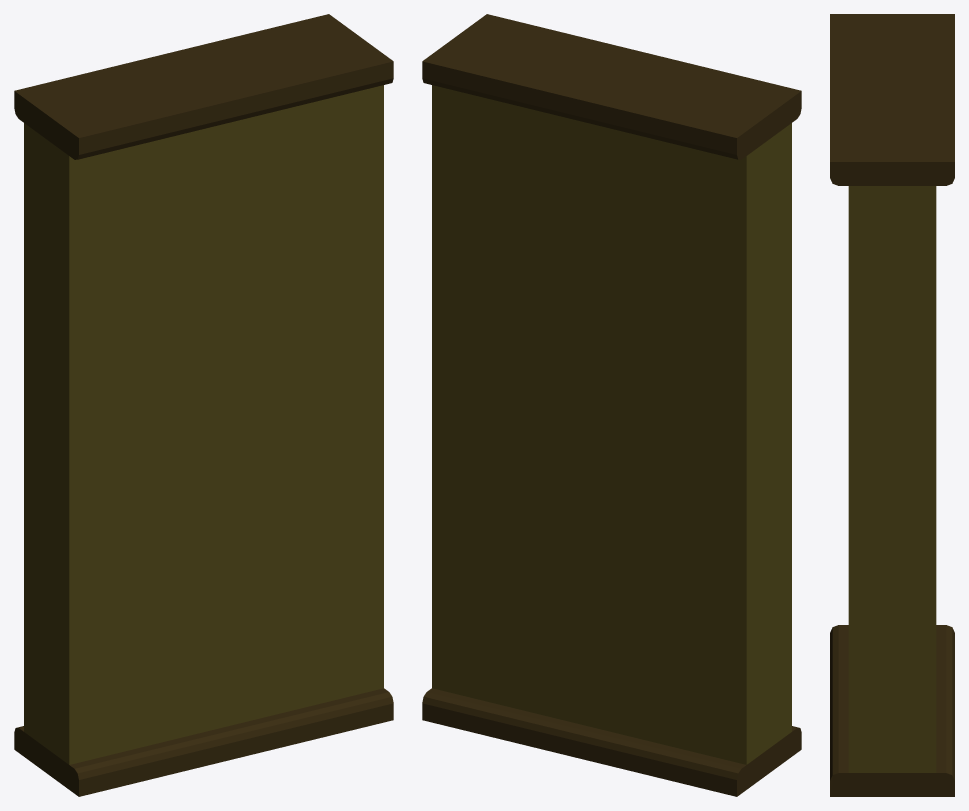
The model's file is WallHalfHigh.fbx.
The picture shows the model from 3 angles, left to right: view 1: azimuth 30°, elevation 25°; view 2: azimuth 150°, elevation 25°; view 3: azimuth 270°, elevation 25°; orthographic projection. The views are drawn at different scales.
Visible parts, largest first — view 1: WallHalfHigh; view 2: WallHalfHigh; view 3: WallHalfHigh.
Boxes of the visible parts, box(x1,y1,x2,y2) form: WallHalfHigh: box(14, 14, 393, 796); WallHalfHigh: box(422, 14, 801, 796); WallHalfHigh: box(830, 14, 954, 796).
Size of the model in its own units: 200 by 400 by 71.24.
